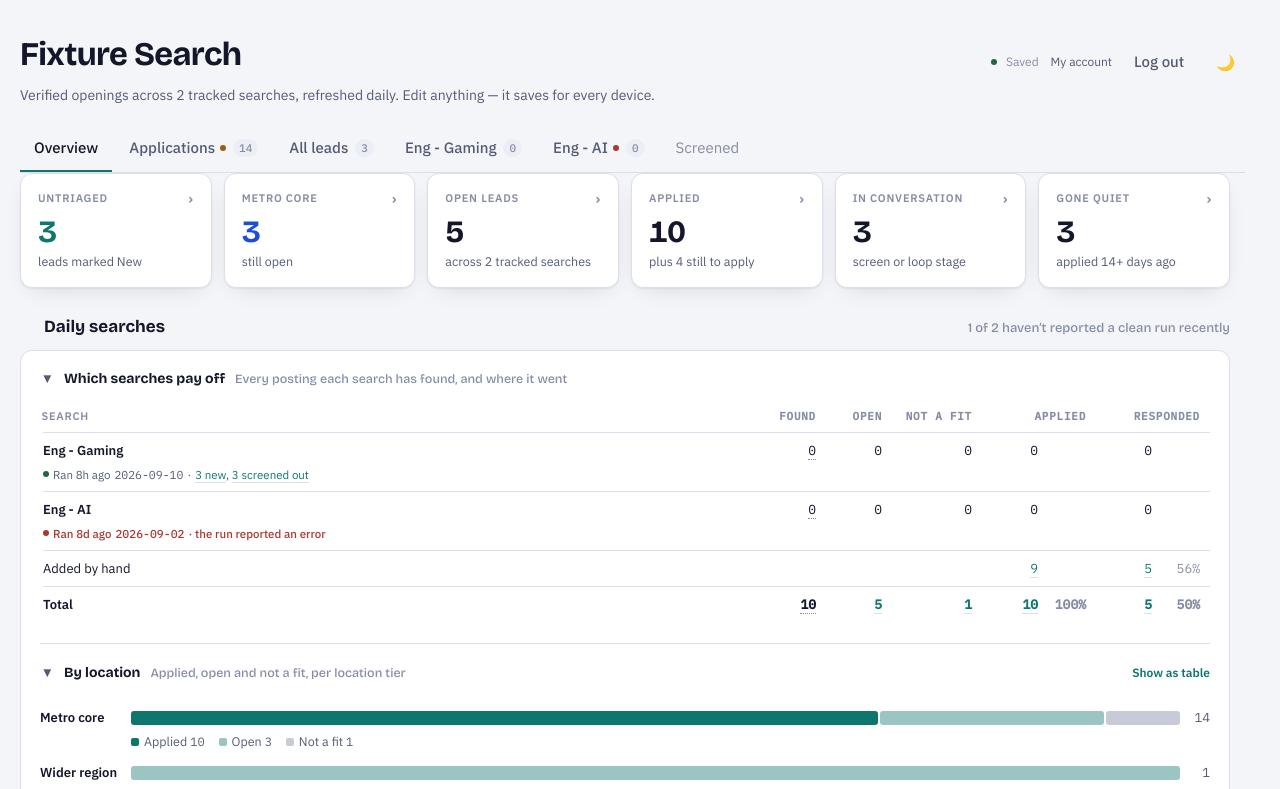
it: the resume list › lists each resume once, with its date, words read and the tabs it drives
This screenshot has width=1280, height=789.
Expected: the heading "Fixture Search" is shown, [20,34,241,74]
Click the button "My account".
click(1081, 62)  # box [1051,53,1112,71]
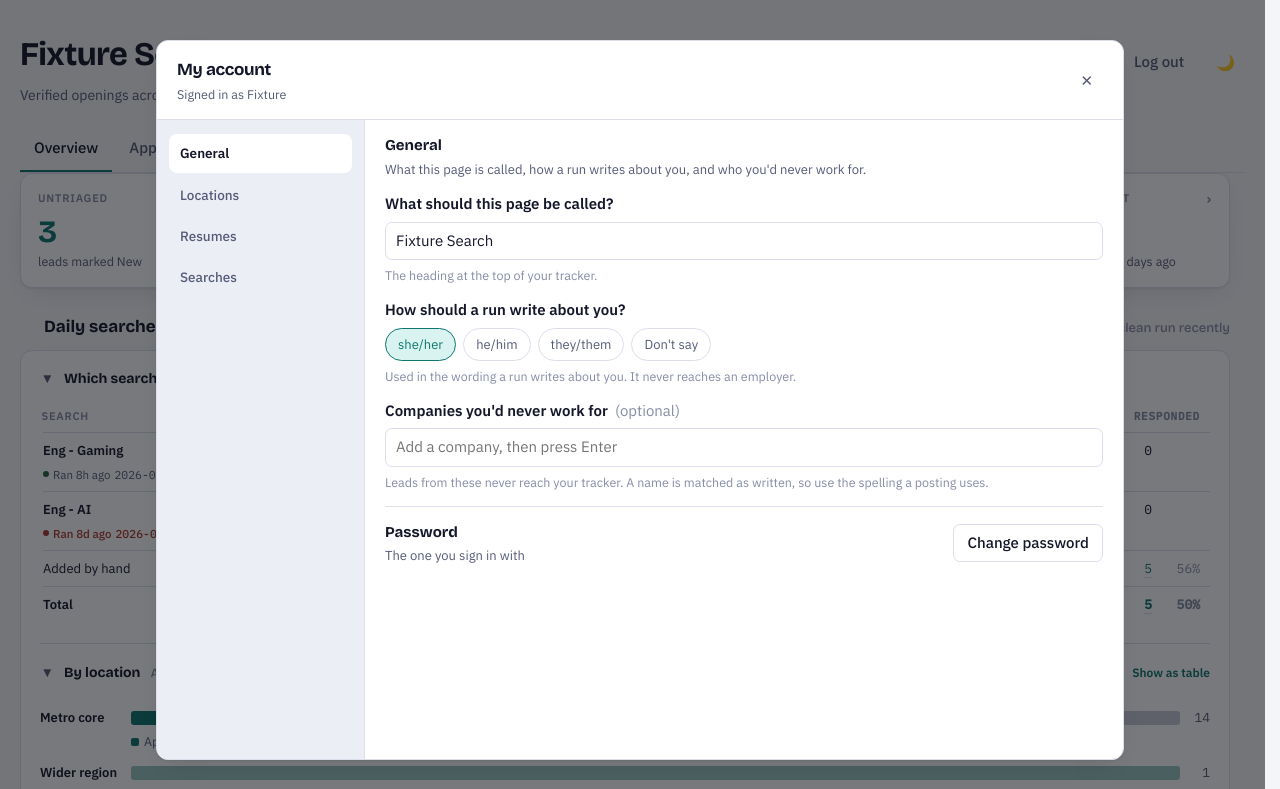
Click the button "Resumes".
click(260, 236)  # box [169,217,352,255]
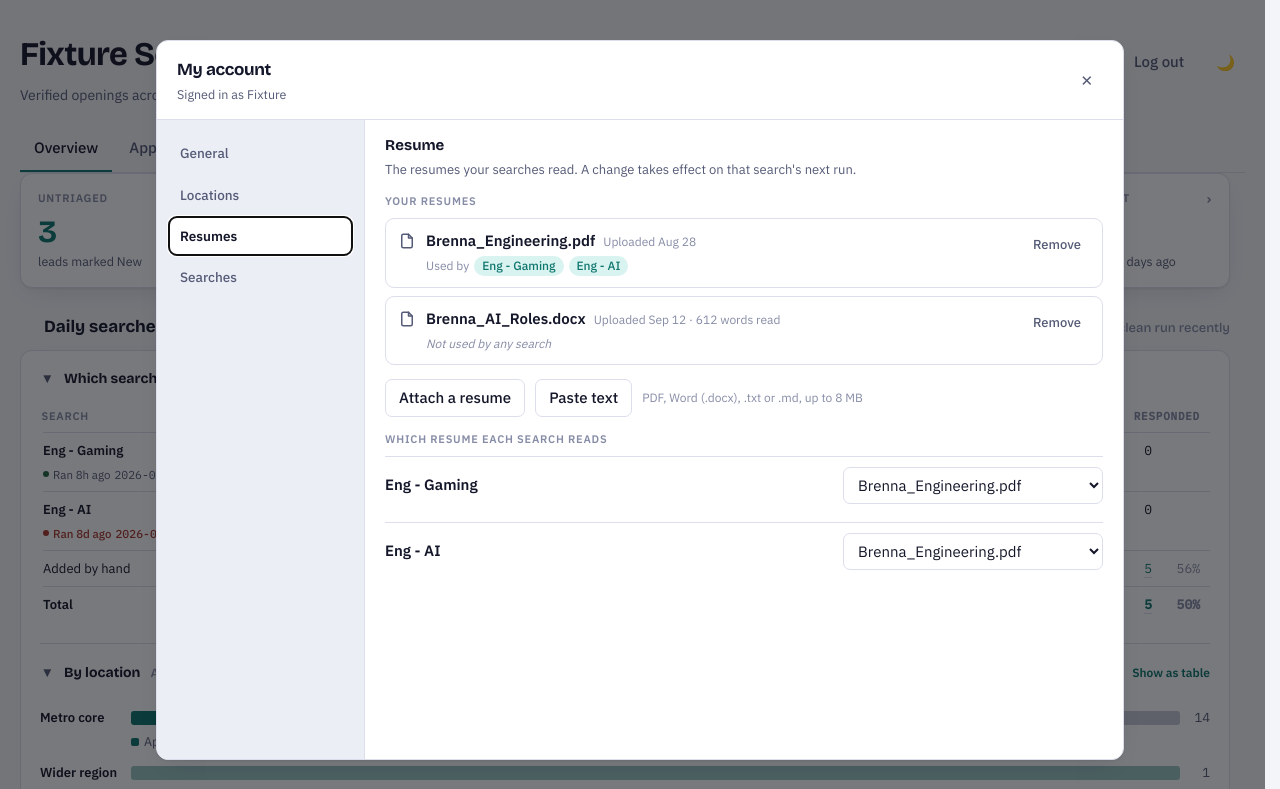
Now the text "Brenna_Engineering.pdf" is shown, box [426,230,595,252]
Now the text "Brenna_Engineering.pdf" shows "Uploaded Aug 28", box [603,234,696,249]
Now the text "Eng - Gaming" is shown, box [474,256,564,276]
